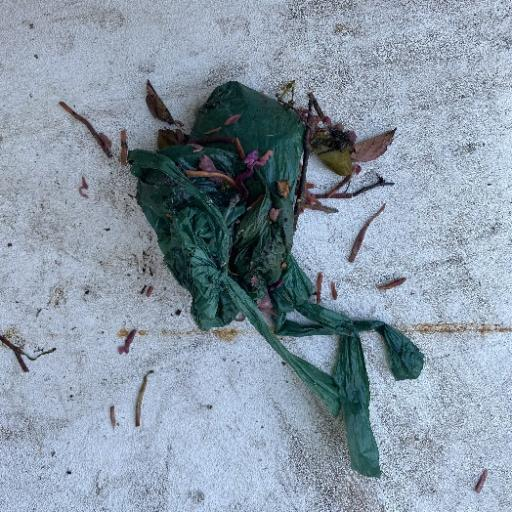Waste: (58, 76, 426, 479)
